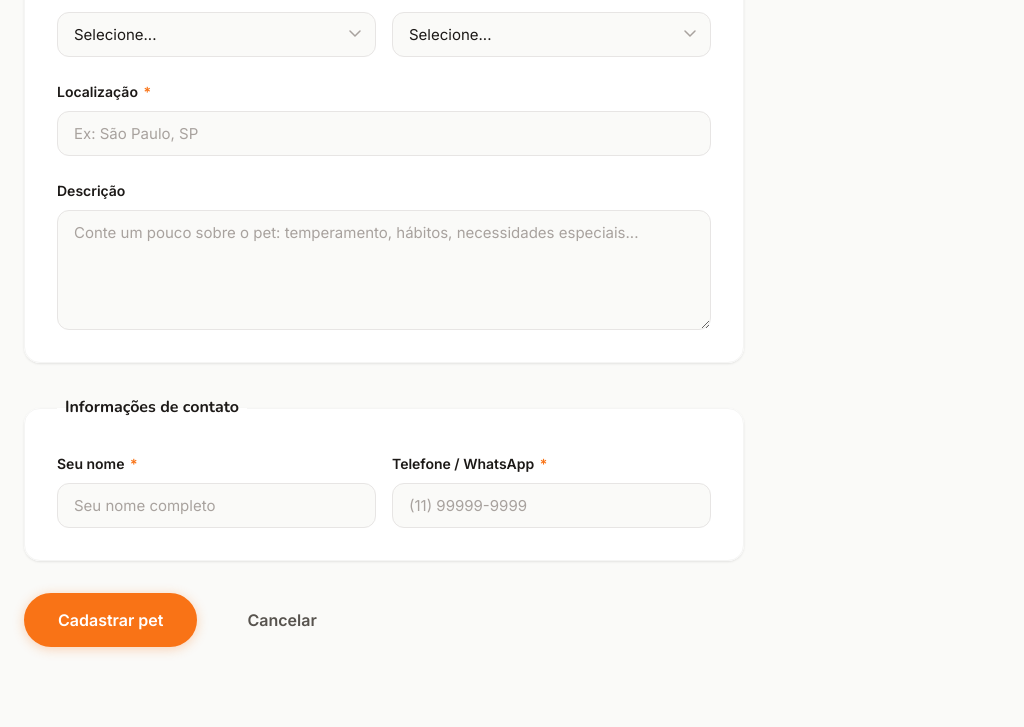
Test: CadastrarPage › campos com erro recebem aria-describedby apontando para a mensagem de erro
(page scrolled)
Click the button with test id "register-btn-submit" at point(111, 620), box [24,594,198,648]
(page scrolled)
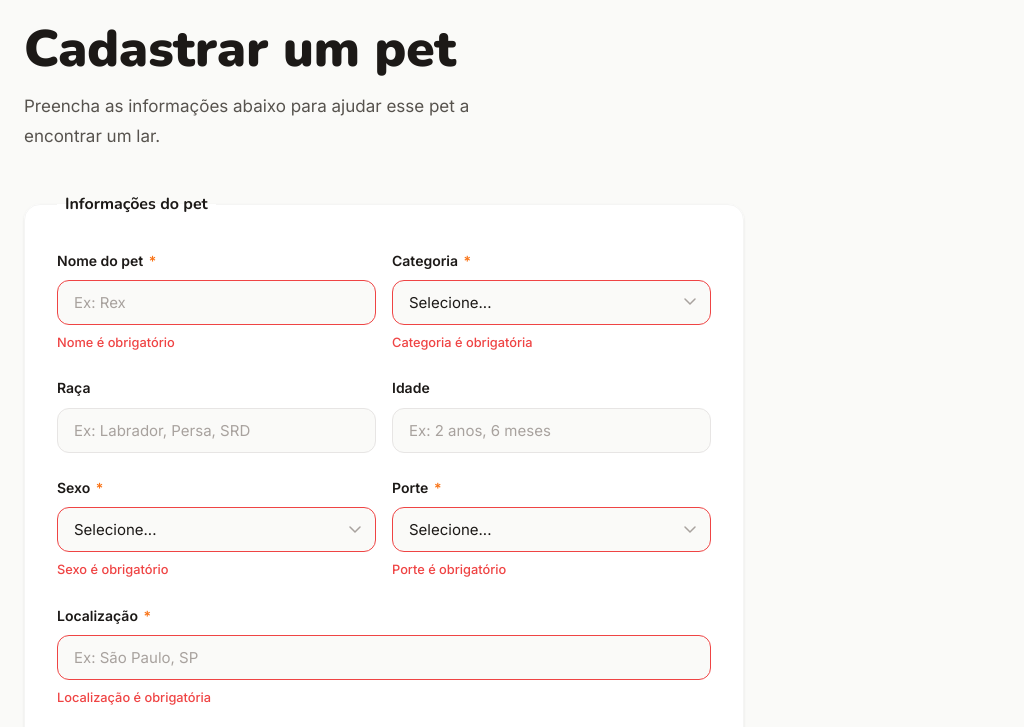
Now the message "Nome é obrigatório" is shown, box [57,335,175,350]
